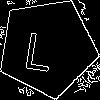L: (22, 22, 57, 72)
